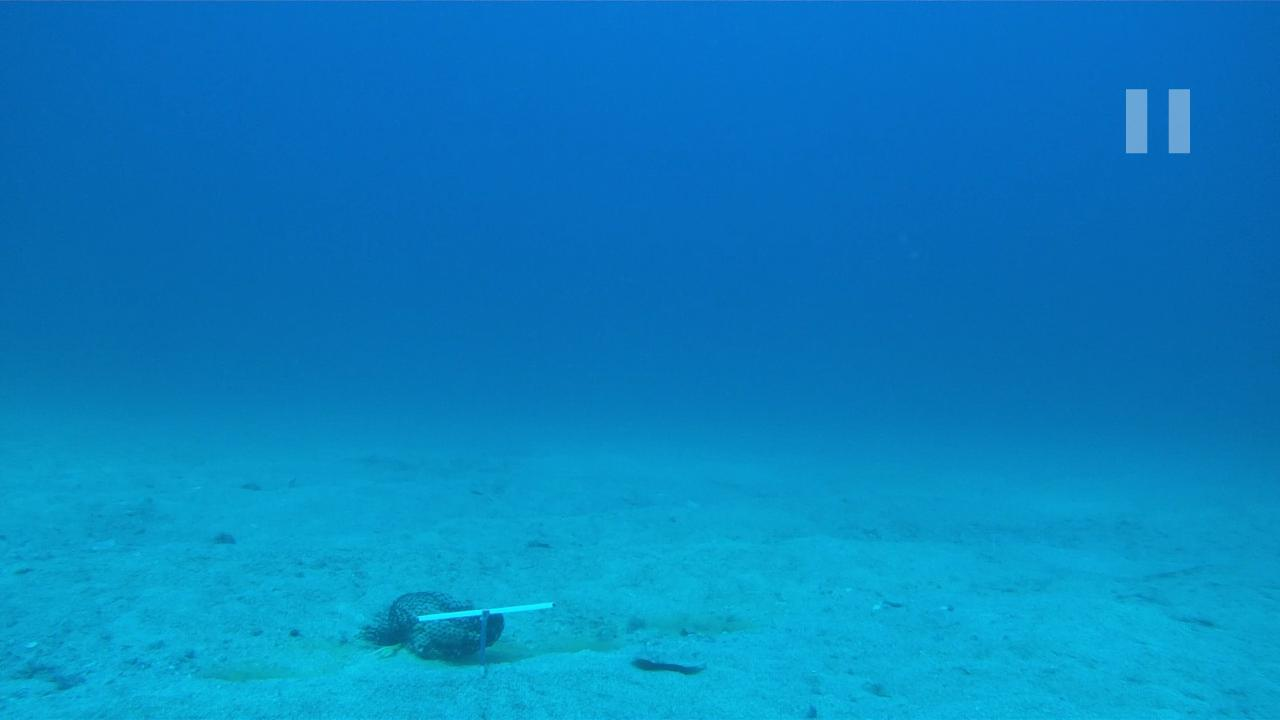bothus: (621, 637, 714, 681)
